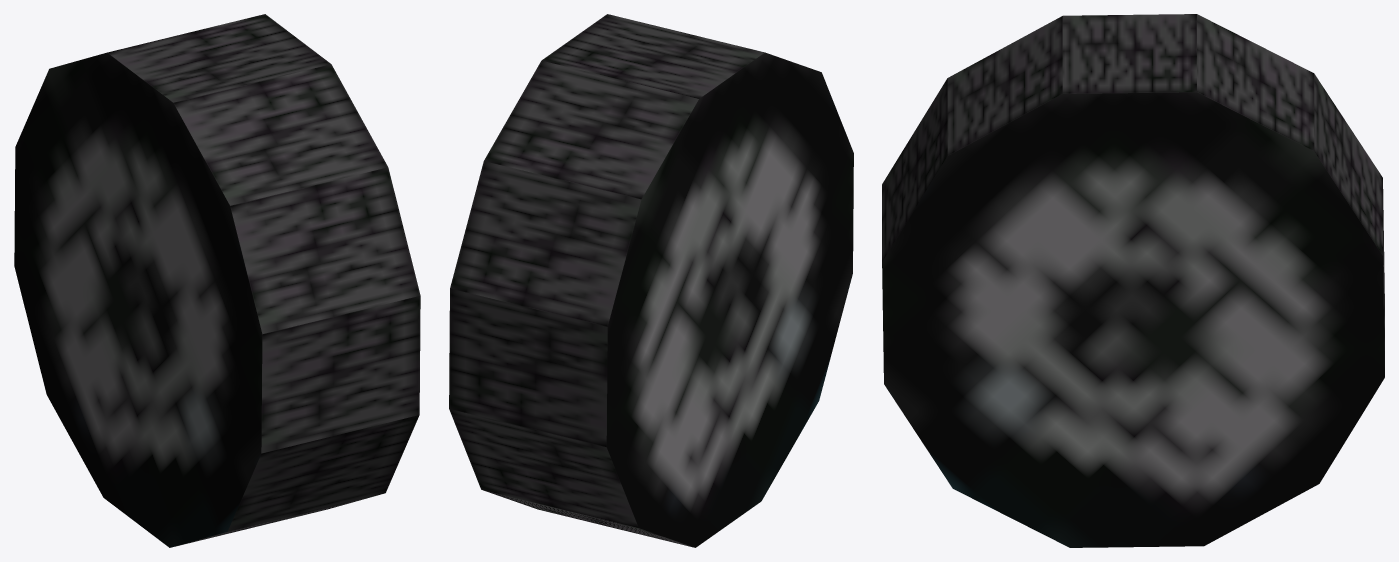
Rendered from RusseBussHjul.glb.
3 renders of one model, left to right at view 1: azimuth 30°, elevation 25°; view 2: azimuth 150°, elevation 25°; view 3: azimuth 270°, elevation 25°, orthographic.
Visible parts, largest first — view 1: Cylinder; view 2: Cylinder; view 3: Cylinder.
Part boxes in pixels (bbox=[...]): Cylinder: bbox=[14, 14, 420, 547]; Cylinder: bbox=[449, 14, 853, 547]; Cylinder: bbox=[882, 14, 1384, 547].
Size of the model in its own units: 3.81 by 10.35 by 10.35.
1 material, 1 textured.
